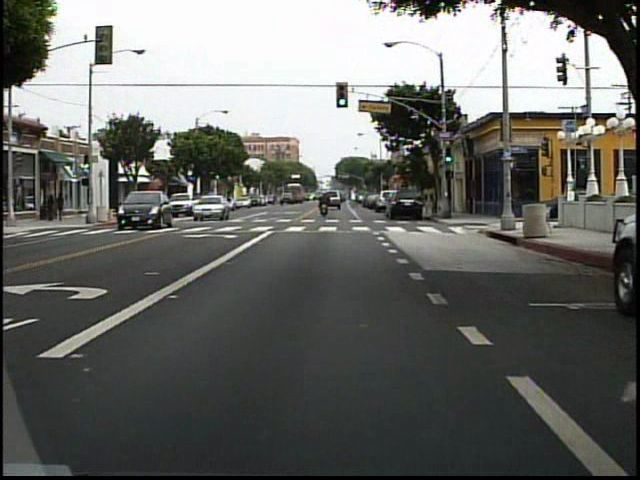person: (318, 189, 331, 218), (57, 190, 69, 221), (46, 193, 58, 223)
